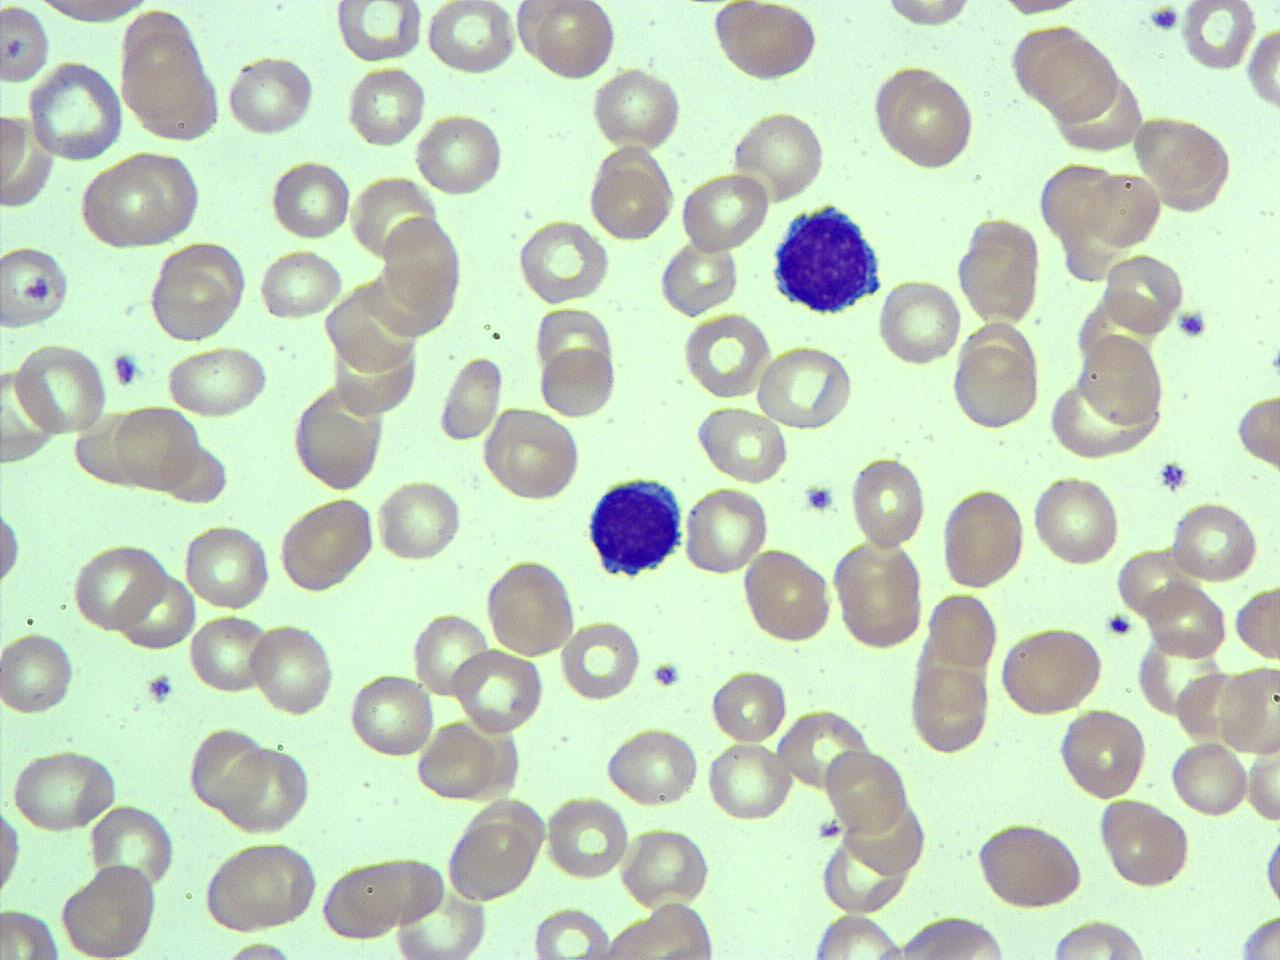Platelets: (110, 346, 142, 389), (1156, 456, 1190, 496), (1175, 306, 1209, 342), (1145, 2, 1183, 34), (802, 481, 836, 515), (145, 671, 176, 703), (649, 659, 682, 690), (1106, 612, 1138, 639), (816, 815, 844, 841), (1268, 343, 1280, 380)
RBC: (75, 152, 197, 252), (872, 62, 978, 174), (202, 837, 321, 934), (118, 37, 226, 143), (288, 382, 389, 494), (996, 624, 1106, 720), (831, 539, 926, 650), (25, 57, 126, 161), (276, 492, 377, 596), (974, 820, 1087, 912), (478, 406, 584, 503), (145, 242, 245, 344), (728, 107, 830, 206), (57, 860, 161, 958), (1011, 27, 1121, 119), (953, 214, 1044, 324), (482, 556, 578, 659), (10, 745, 121, 834), (740, 544, 834, 646), (939, 484, 1027, 594), (1095, 796, 1193, 892), (708, 1, 822, 84), (13, 339, 111, 436), (950, 329, 1041, 433), (68, 541, 168, 633), (1056, 705, 1150, 803), (754, 342, 856, 432), (380, 211, 466, 316), (218, 740, 313, 834), (250, 618, 338, 720), (450, 646, 546, 738), (1029, 473, 1123, 567), (512, 218, 612, 306), (1130, 112, 1236, 195), (180, 519, 274, 612), (680, 483, 770, 580), (589, 66, 686, 154), (1077, 332, 1167, 428), (874, 274, 963, 370), (680, 312, 772, 403), (618, 824, 714, 912), (603, 724, 700, 810), (87, 800, 179, 889), (347, 670, 437, 760), (111, 402, 201, 493), (372, 476, 466, 563), (162, 345, 271, 419), (222, 53, 316, 139), (848, 452, 928, 552), (678, 169, 770, 257), (1168, 498, 1262, 584), (821, 744, 912, 832), (412, 111, 504, 198), (318, 857, 411, 942), (703, 738, 796, 822), (909, 662, 991, 756), (586, 157, 675, 243), (545, 792, 630, 882), (693, 404, 789, 484), (410, 608, 492, 700), (185, 612, 272, 698), (1101, 250, 1185, 338), (445, 822, 538, 902), (346, 62, 428, 150), (557, 618, 644, 702), (392, 885, 490, 959), (532, 0, 618, 84), (0, 627, 78, 719), (425, 0, 518, 76), (256, 245, 346, 323), (268, 159, 352, 242), (1142, 580, 1230, 658), (414, 719, 498, 801), (1168, 738, 1252, 820), (118, 568, 198, 653), (0, 242, 74, 334), (536, 340, 620, 419), (1082, 170, 1166, 249), (708, 665, 788, 745), (656, 242, 740, 319), (434, 354, 506, 443), (926, 590, 1000, 673), (1218, 659, 1280, 756), (332, 0, 426, 64), (1178, 0, 1258, 74), (892, 914, 1018, 959), (808, 910, 906, 960), (527, 906, 611, 960), (1046, 916, 1152, 958), (1, 3, 54, 87), (1232, 390, 1280, 472), (0, 902, 65, 960), (1234, 583, 1280, 662), (1243, 18, 1279, 117), (879, 0, 979, 31), (1244, 744, 1280, 828), (1, 789, 25, 906), (0, 501, 23, 594), (1236, 912, 1280, 958)
WBC: (770, 201, 888, 317), (583, 471, 689, 579)
